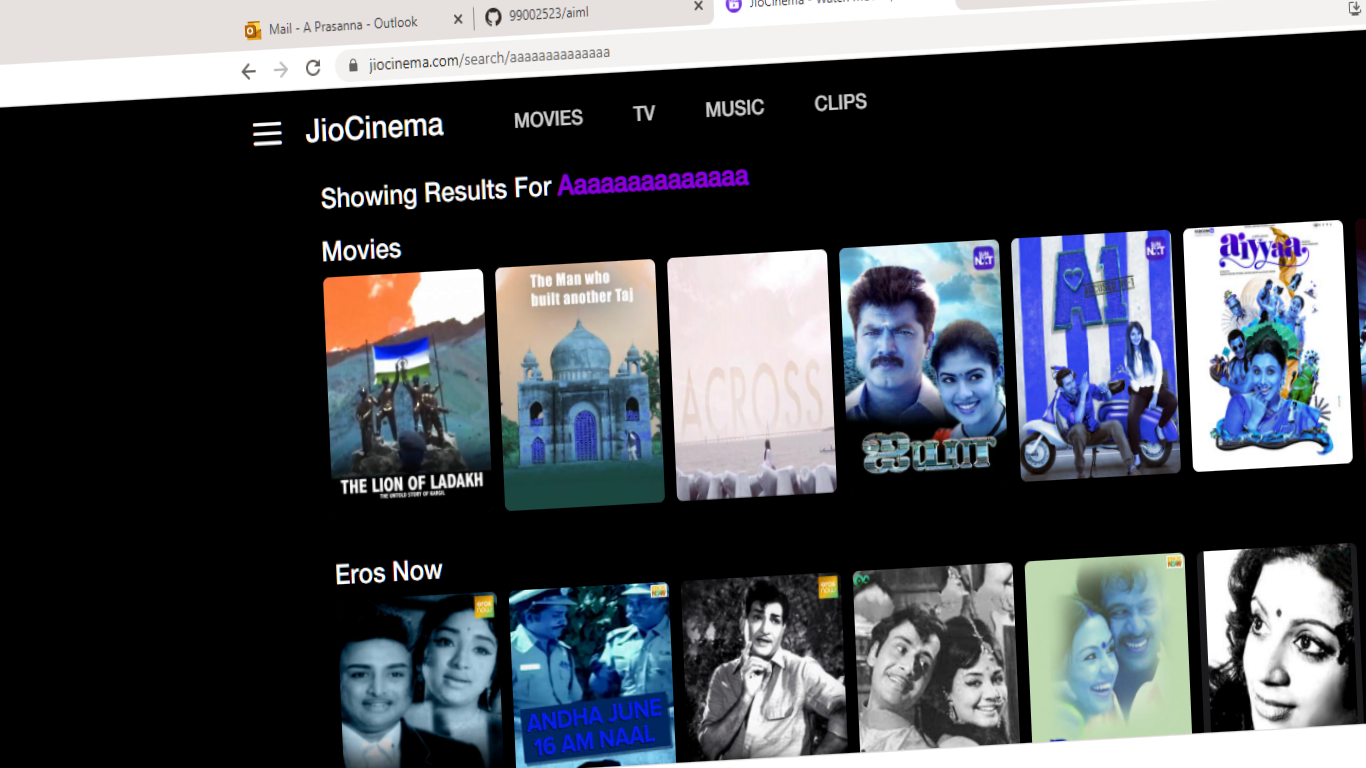noresultsfound: (301, 153, 761, 215)
